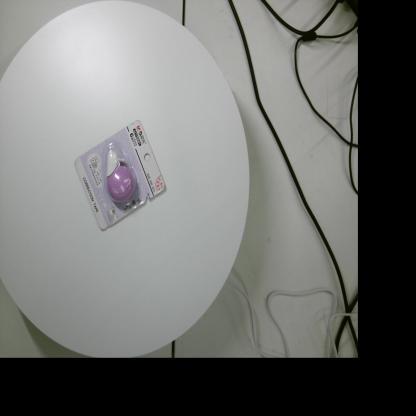Stationery: (75, 120, 165, 231)
